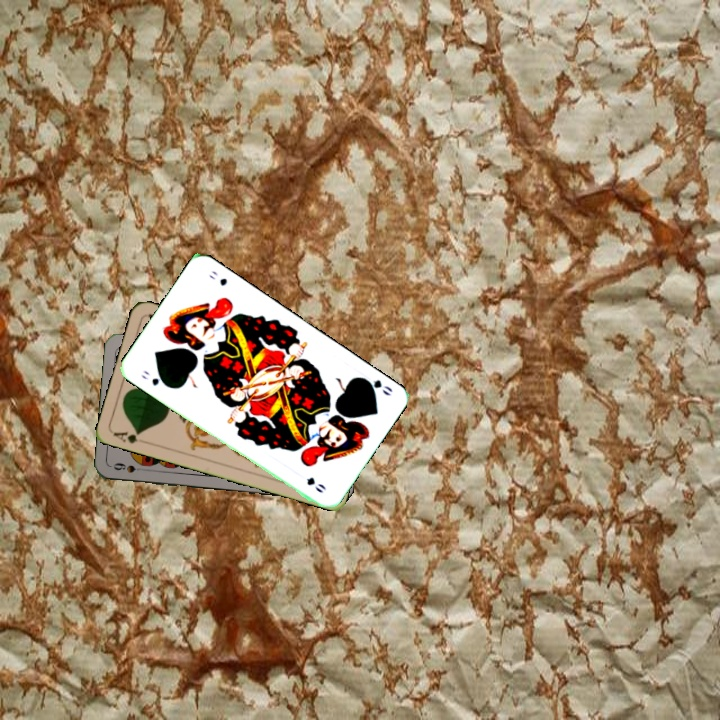GA: (110, 427, 143, 446)
GO: (357, 373, 395, 398), (137, 366, 171, 390)
S9: (110, 459, 149, 475)
